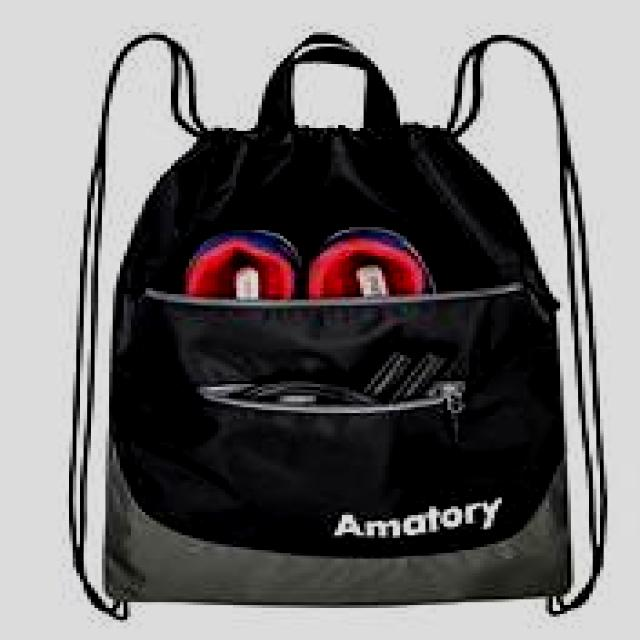backpack: (67, 30, 609, 618)
